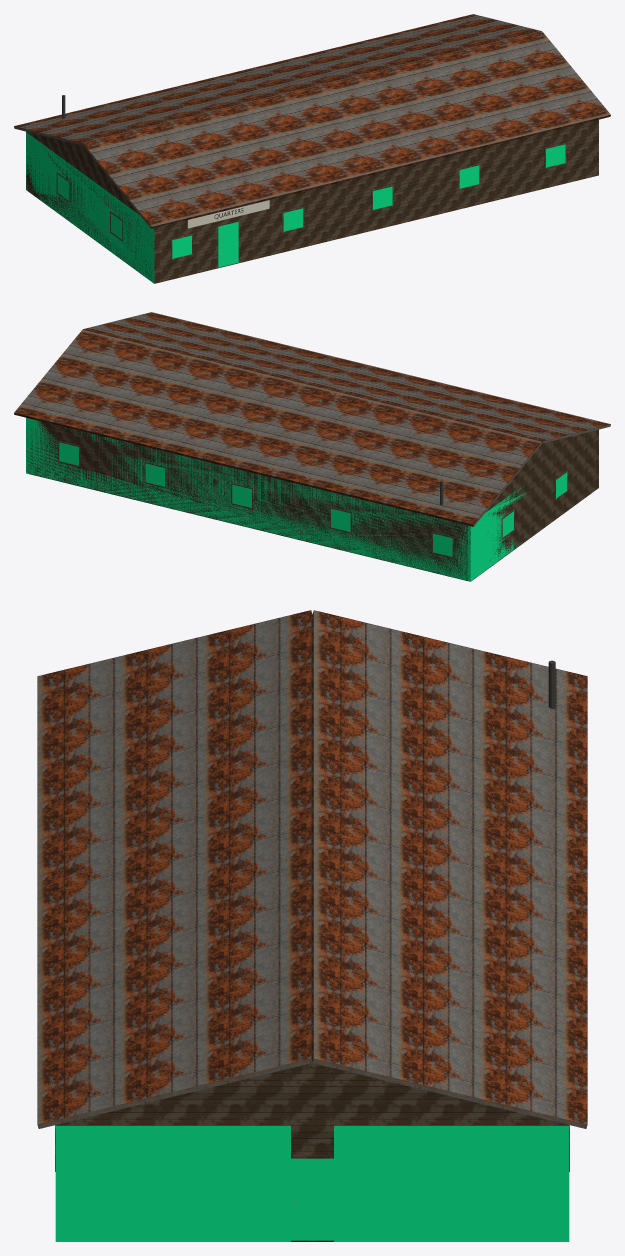
File: quarters.glb
The picture shows the model from 3 angles, top to bottom: view 1: azimuth 30°, elevation 25°; view 2: azimuth 150°, elevation 25°; view 3: azimuth 270°, elevation 25°; orthographic projection. The views are drawn at different scales.
Visible parts, largest first — view 1: Quarters, COL_q_w0, COL_q_s1, COL_Door_Q_Front, COL_q_s0; view 2: Quarters, COL_q_n0, COL_q_w0; view 3: Quarters, COL_q_e0, COL_q_e1, COL_Door_Q_East.
Boxes of the visible parts, x1,y1,x2,y2 form: Quarters: (14, 14, 610, 283); COL_q_w0: (26, 132, 154, 282); COL_q_s1: (283, 144, 565, 231); COL_Door_Q_Front: (218, 221, 238, 267); COL_q_s0: (152, 228, 191, 283); Quarters: (14, 312, 610, 580); COL_q_n0: (26, 417, 471, 581); COL_q_w0: (468, 472, 567, 581); Quarters: (37, 610, 587, 1241); COL_q_e0: (334, 1125, 569, 1241); COL_q_e1: (55, 1125, 290, 1241); COL_Door_Q_East: (291, 1158, 333, 1240).
Bounding box in the file's own units: 24.8 × 4.92 × 12.86.
24 materials, 7 textured.
